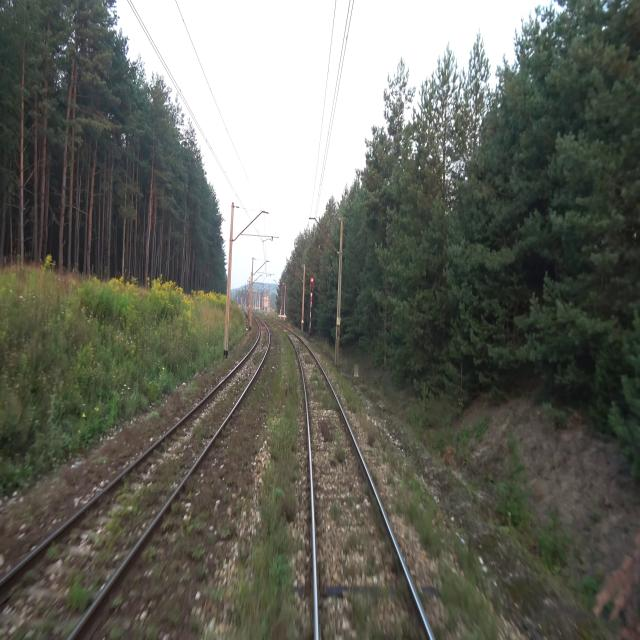rail-track: (0, 322, 268, 639), (288, 332, 430, 639)
